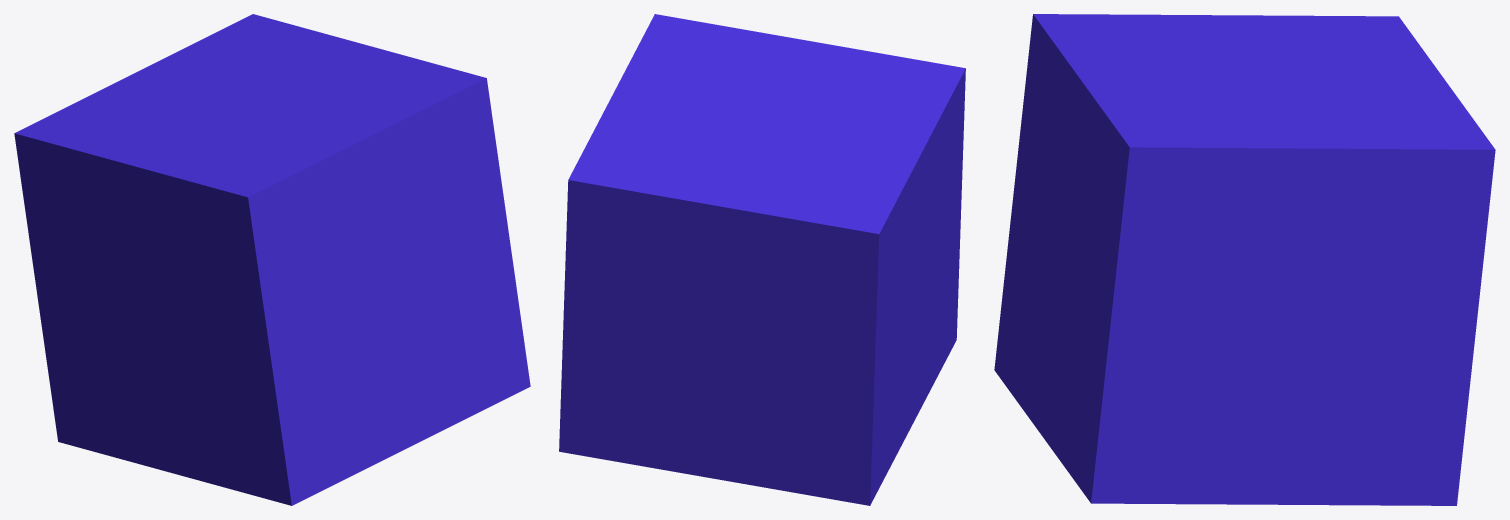
File: cubo.gltf
3 views of the same model, side by side, from view 1: azimuth 30°, elevation 25°; view 2: azimuth 150°, elevation 25°; view 3: azimuth 270°, elevation 25° (orthographic). The views are drawn at different scales.
Visible parts, largest first — view 1: Cubo; view 2: Cubo; view 3: Cubo.
Part boxes in pixels (box(x1,y1,x2,y2)): Cubo: box(14, 14, 530, 505); Cubo: box(559, 14, 965, 505); Cubo: box(994, 14, 1495, 505).
Bounding box in the file's own units: 2.6 × 2.35 × 2.64.
